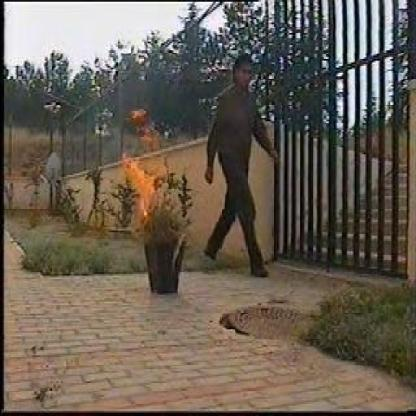foggia-v2-map80-epoch100 - v1 4323: (126, 104, 160, 231)
